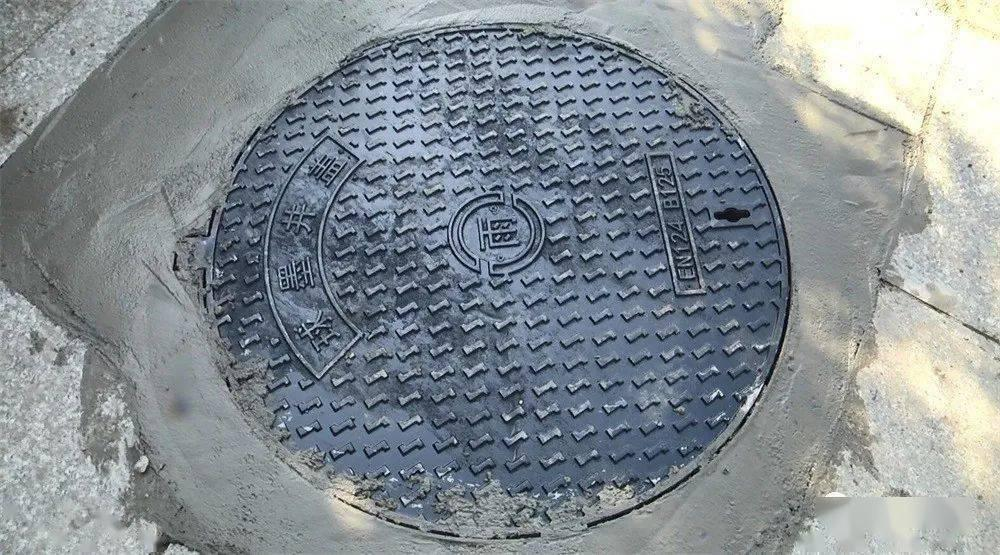wellcover: (150, 9, 828, 546)
